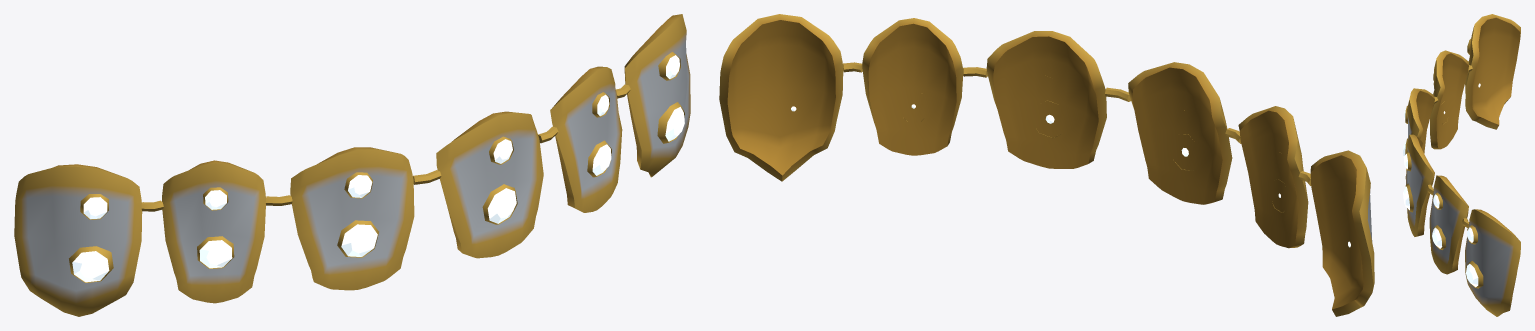
The model's file is grill_diamond.glb.
3 views of the same model, side by side, from view 1: azimuth 30°, elevation 25°; view 2: azimuth 150°, elevation 25°; view 3: azimuth 270°, elevation 25° (orthographic). The views are drawn at different scales.
Parts seen in each view (by area): view 1: Grill, Gem_00, Gem_04, Gem_02, Gem_01; view 2: Grill; view 3: Grill, Gem_05, Gem_03, Gem_01.
Part boxes in pixels (x1,y1,x2,y2): Grill: [14, 14, 690, 316]; Gem_00: [341, 224, 377, 256]; Gem_04: [72, 251, 109, 282]; Gem_02: [199, 240, 232, 268]; Gem_01: [487, 188, 516, 223]; Grill: [719, 14, 1374, 316]; Grill: [1405, 14, 1520, 316]; Gem_05: [1466, 264, 1478, 287]; Gem_03: [1432, 227, 1442, 248]; Gem_01: [1403, 186, 1409, 209].
Bounding box in the file's own units: 4.71 × 1.08 × 1.07.
